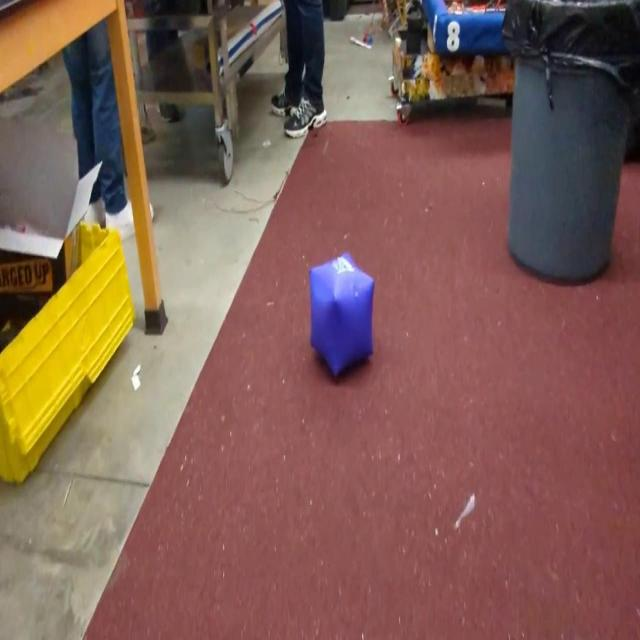frc_cube: (308, 256, 378, 380)
